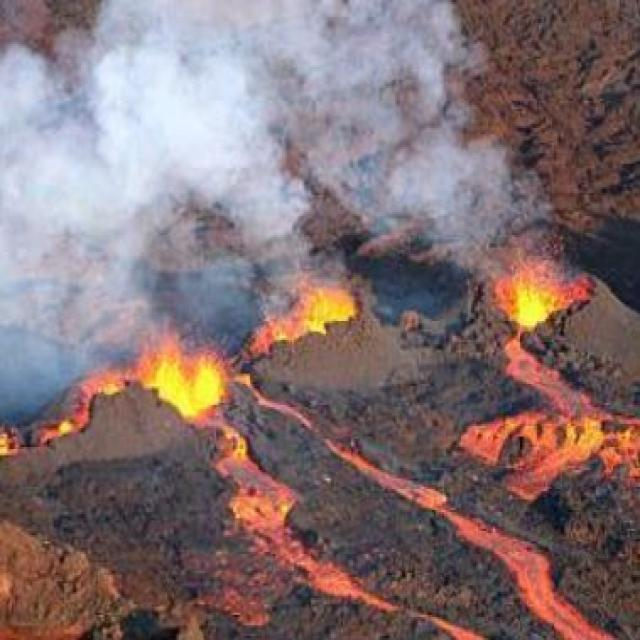Fire: (19, 340, 252, 474), (276, 269, 361, 368), (491, 278, 560, 344)
Smoke: (24, 4, 538, 267)
